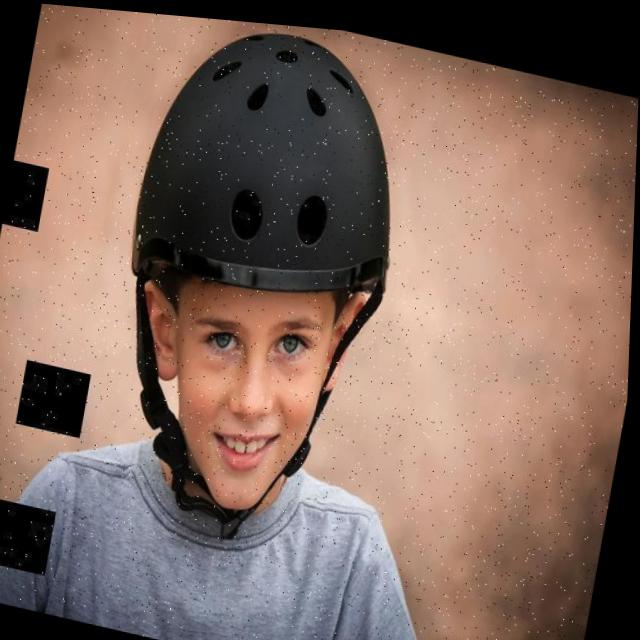helmet: (87, 7, 426, 569)
